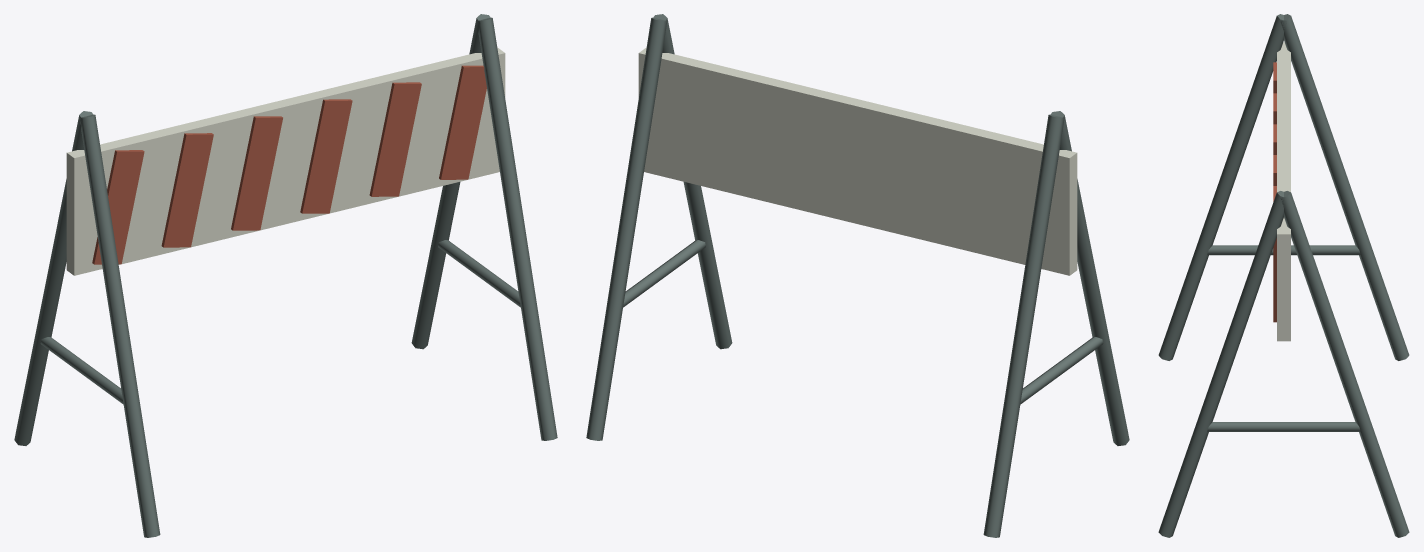
3 renders of one model, left to right at view 1: azimuth 30°, elevation 25°; view 2: azimuth 150°, elevation 25°; view 3: azimuth 270°, elevation 25°, orthographic. The views are drawn at different scales.
Visible parts, largest first — view 1: part-5, part-2, part-4, part-1, part-9, part-10, part-7, part-8, part-11, part-3, part-6, part-13 (+1 smaller); view 2: part-5, part-1, part-3, part-2, part-4, part-13, part-12; view 3: part-1, part-3, part-2, part-4, part-5, part-13, part-12, part-11.
Boxes of the visible parts, <box> form: part-5: <box>66,47,505,275</box>; part-2: <box>79,114,160,537</box>; part-4: <box>478,17,557,440</box>; part-1: <box>14,111,93,445</box>; part-9: <box>300,99,352,213</box>; part-10: <box>369,82,421,196</box>; part-7: <box>161,133,213,247</box>; part-8: <box>231,116,282,230</box>; part-11: <box>439,65,486,179</box>; part-3: <box>411,14,490,349</box>; part-6: <box>92,150,144,264</box>; part-13: <box>438,240,520,307</box>; part-5: <box>638,47,1077,275</box>; part-1: <box>983,114,1064,537</box>; part-3: <box>586,17,667,440</box>; part-2: <box>1050,111,1129,445</box>; part-4: <box>653,14,732,349</box>; part-13: <box>623,240,705,307</box>; part-12: <box>1020,337,1103,404</box>; part-1: <box>1280,14,1409,360</box>; part-3: <box>1280,191,1409,537</box>; part-2: <box>1158,14,1286,360</box>; part-4: <box>1158,191,1284,537</box>; part-5: <box>1277,42,1290,341</box>; part-13: <box>1207,422,1360,431</box>; part-12: <box>1207,245,1360,255</box>; part-11: <box>1273,238,1276,322</box>.
Bounding box in the file's own units: 1.15 × 0.9614 × 0.6362.
